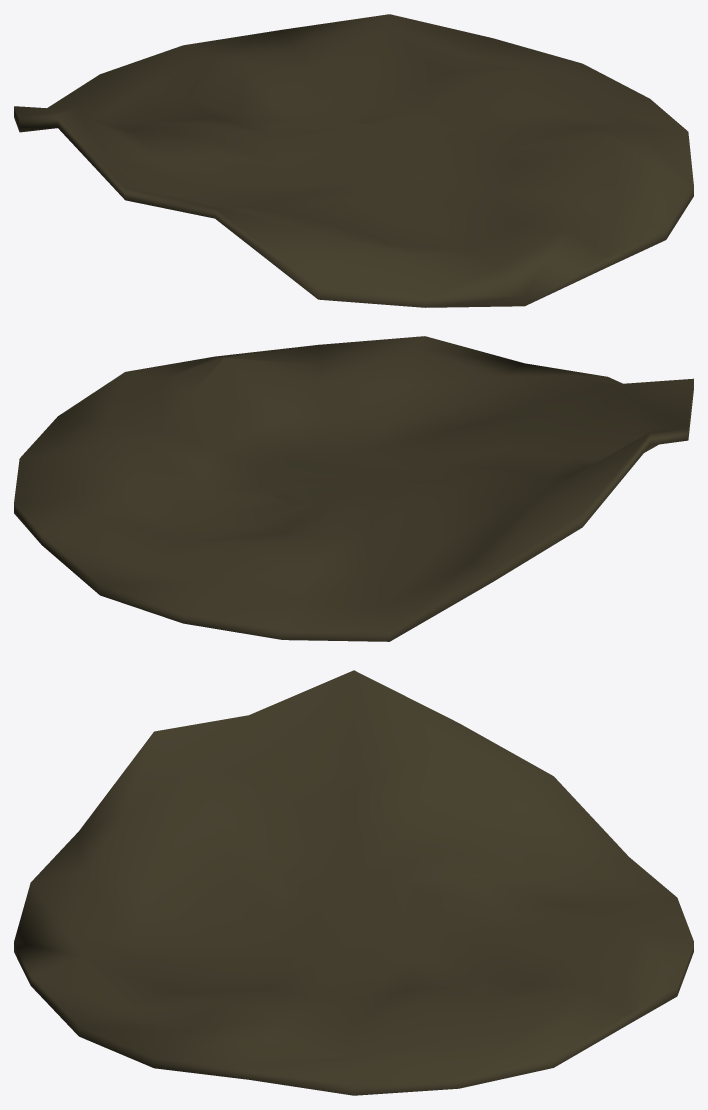
Rendered from dirt_top.fbx.
3 views of the same model, one above another, from view 1: azimuth 30°, elevation 25°; view 2: azimuth 150°, elevation 25°; view 3: azimuth 270°, elevation 25° (orthographic).
Parts seen in each view (by area): view 1: dirt_top; view 2: dirt_top; view 3: dirt_top.
Boxes of the visible parts, x1,y1,x2,y2 form: dirt_top: (14,14,693,307); dirt_top: (14,336,693,641); dirt_top: (14,670,693,1095).
Size of the model in its own units: 32.89 by 7.37 by 32.89.
